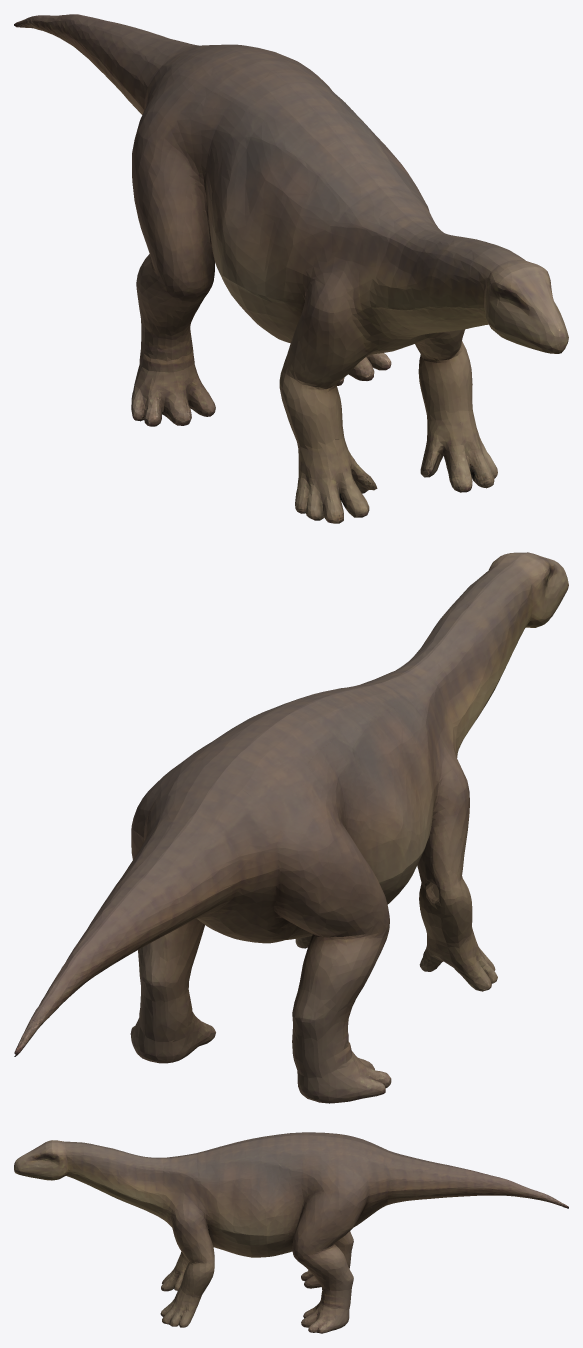
3 views of the same model, one above another, from view 1: azimuth 30°, elevation 25°; view 2: azimuth 150°, elevation 25°; view 3: azimuth 270°, elevation 25° (orthographic). The views are drawn at different scales.
Parts seen in each view (by area): view 1: world; view 2: world; view 3: world.
Part boxes in pixels (left/top/right/bottom): world: left=14, top=14, right=568, bottom=523; world: left=14, top=552, right=568, bottom=1103; world: left=14, top=1132, right=568, bottom=1333.
Size of the model in its own units: 0.2654 by 0.3368 by 0.9995.
Materials: 1 (1 with a texture image).
